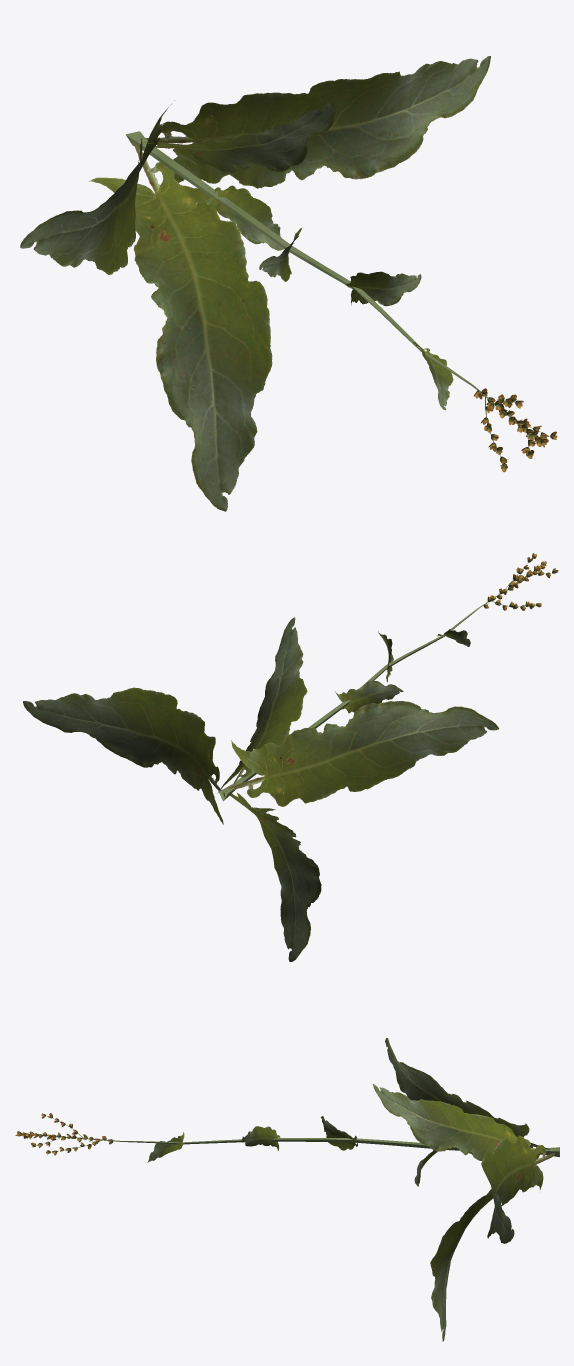
3 views of the same model, one above another, from view 1: azimuth 30°, elevation 25°; view 2: azimuth 150°, elevation 25°; view 3: azimuth 270°, elevation 25° (orthographic). The views are drawn at different scales.
Visible parts, largest first — view 1: GC16_2; view 2: GC16_2; view 3: GC16_2.
Part boxes in pixels (x1,y1,x2,y2): GC16_2: [20, 56, 557, 511]; GC16_2: [23, 553, 558, 961]; GC16_2: [15, 1038, 559, 1341].
Bounding box in the file's own units: 0.9577 × 0.7066 × 1.23.
Materials: 4 (4 with a texture image).
